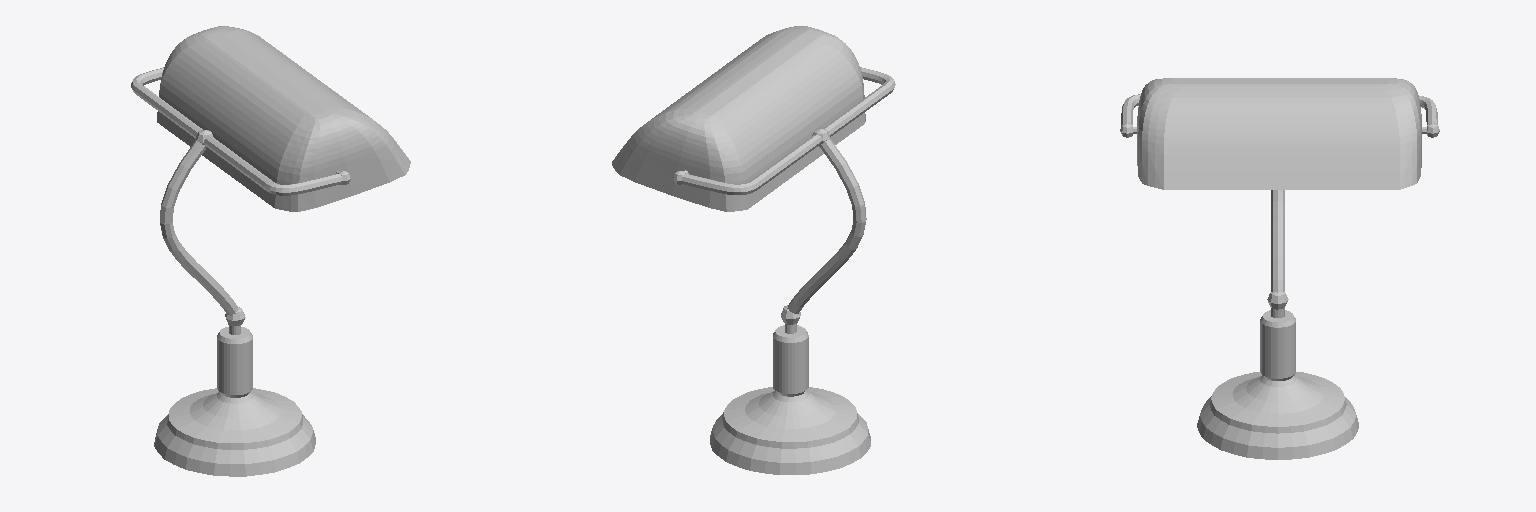
File: lamp2.obj
3 renders of one model, left to right at view 1: azimuth 30°, elevation 25°; view 2: azimuth 150°, elevation 25°; view 3: azimuth 270°, elevation 25°, orthographic.
Visible parts, largest first — view 1: Cylinder.003_Cylinder.011; view 2: Cylinder.003_Cylinder.011; view 3: Cylinder.003_Cylinder.011.
Boxes of the visible parts, x1=… form: Cylinder.003_Cylinder.011: x1=131, y1=26, x2=410, y2=476; Cylinder.003_Cylinder.011: x1=612, y1=26, x2=895, y2=474; Cylinder.003_Cylinder.011: x1=1120, y1=78, x2=1439, y2=459.
Size of the model in its own units: 9.18 by 16.35 by 13.16.